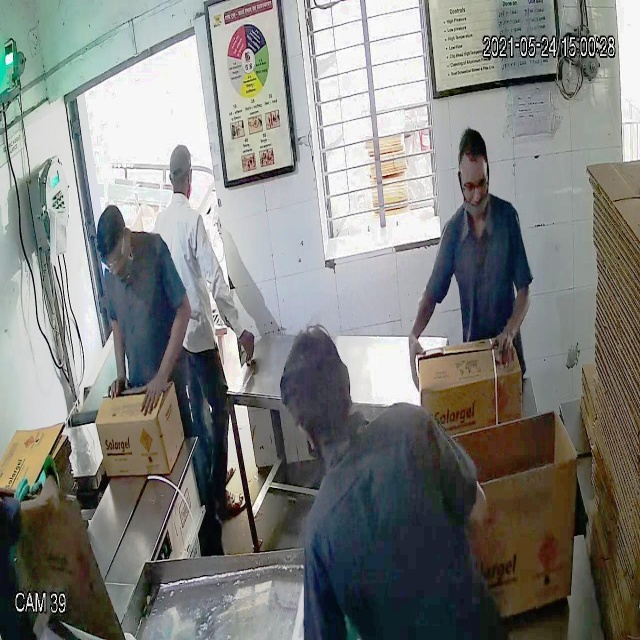Gafas: (98, 226, 126, 272)
